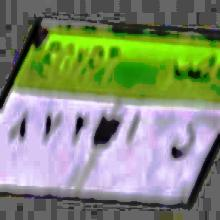2: (71, 105, 90, 149)
7: (42, 103, 63, 146)
8: (9, 106, 28, 154)
alif: (125, 104, 143, 146)
noon: (167, 112, 197, 169)
